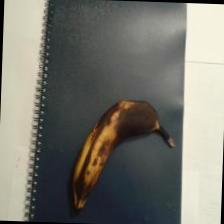Banana Rotten: (84, 91, 180, 164), (68, 91, 113, 211)
